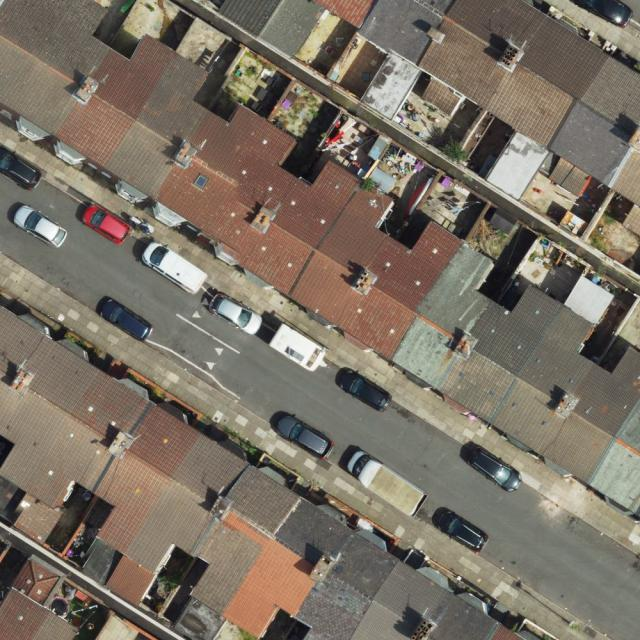roof: (1, 0, 640, 518), (0, 307, 529, 640), (219, 0, 640, 236), (0, 559, 77, 640)
skylight: (193, 173, 209, 190)
